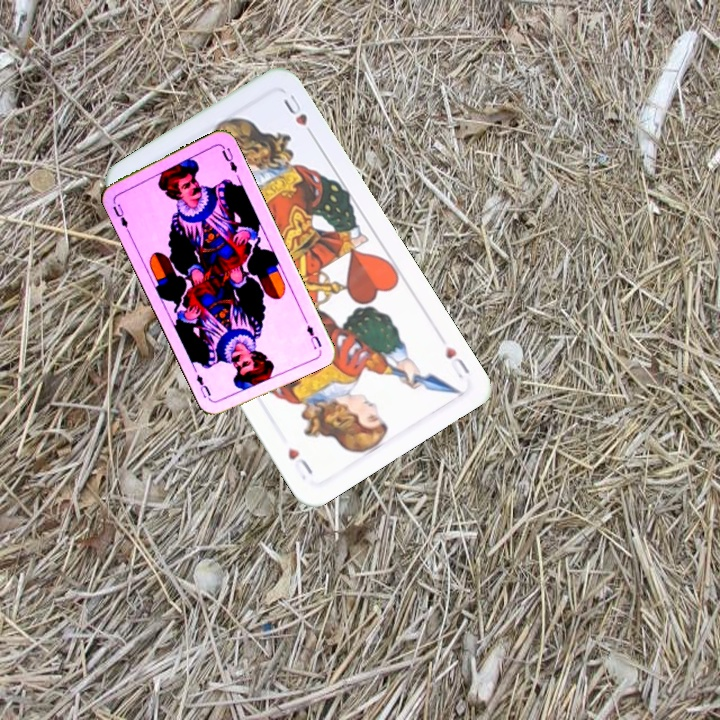EU: (300, 313, 324, 352), (108, 200, 131, 234)
HU: (441, 342, 473, 381)
